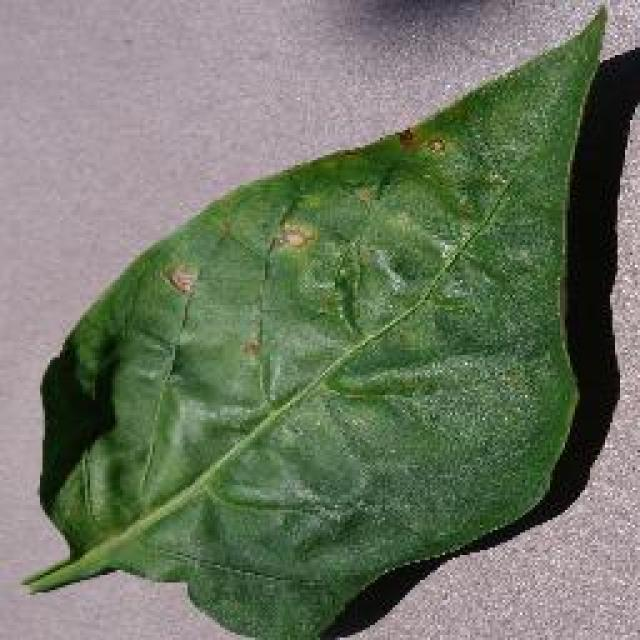Chilli_Bacterial_Spot: (20, 0, 612, 638), (158, 173, 492, 405), (390, 120, 452, 162), (368, 245, 410, 297), (270, 215, 318, 255), (162, 262, 200, 300), (235, 333, 265, 365), (392, 122, 420, 152), (348, 180, 378, 208), (422, 132, 450, 158)
